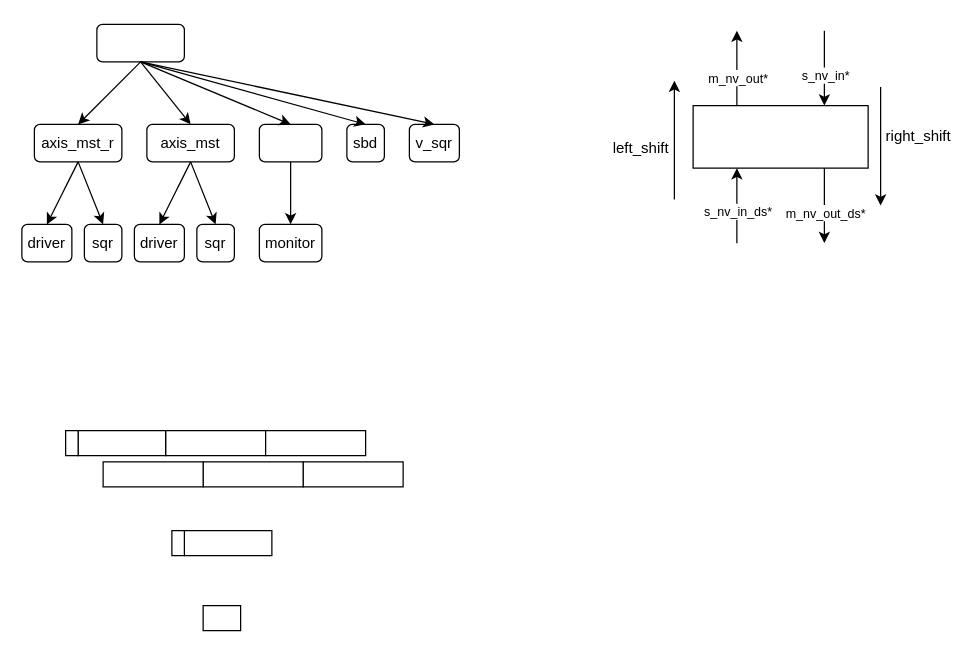
Some shapes in this 980 by 653 pixel diagram are drawn without their labels. Each missing label, with the centre of its shape:
"axis_slv" goes at pixel 290 142.
"data_shift" goes at pixel 780 136.
"env" goes at pixel 140 42.
